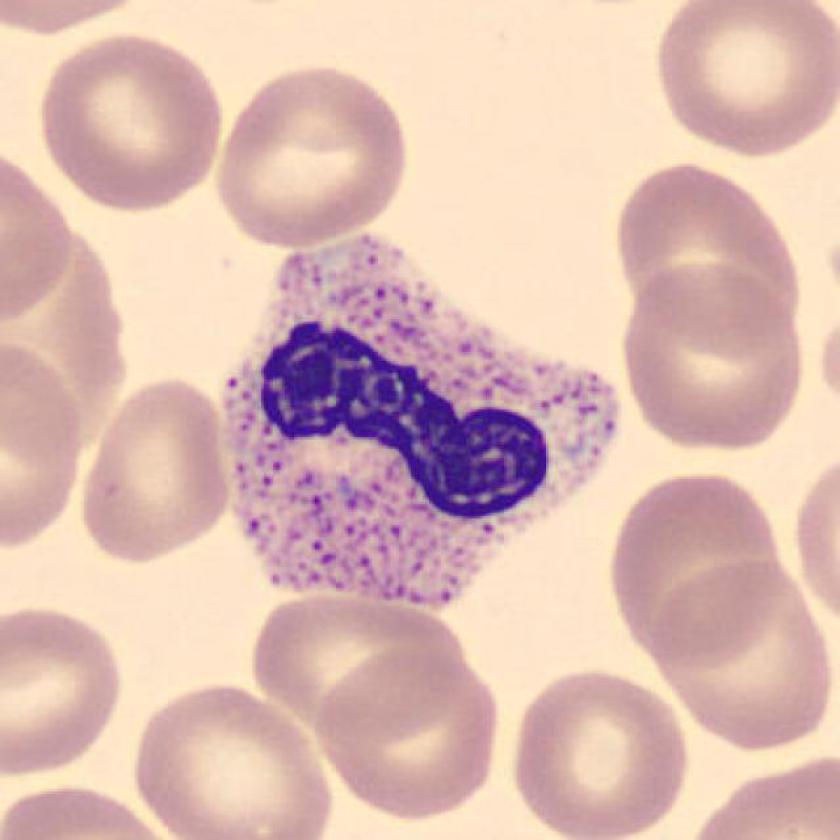neutrophil: (223, 241, 619, 613)
